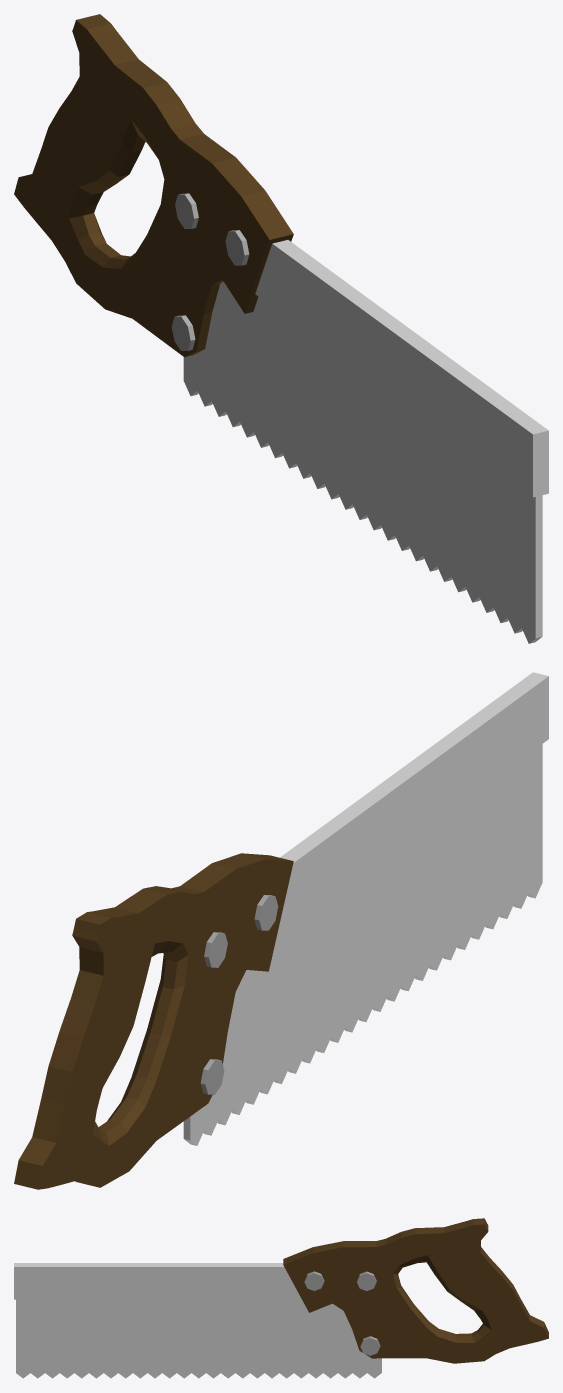
File: saw_small_highcount.glb
The picture shows the model from 3 angles, top to bottom: view 1: azimuth 30°, elevation 25°; view 2: azimuth 150°, elevation 25°; view 3: azimuth 270°, elevation 25°; orthographic projection. The views are drawn at different scales.
Visible parts, largest first — view 1: saw_small_highcount; view 2: saw_small_highcount; view 3: saw_small_highcount.
Part boxes in pixels (x1,y1,x2,y2): saw_small_highcount: (14, 14, 548, 643); saw_small_highcount: (14, 672, 548, 1189); saw_small_highcount: (14, 1218, 548, 1378).
Bounding box in the file's own units: 0.0177 × 0.1403 × 0.4352.
